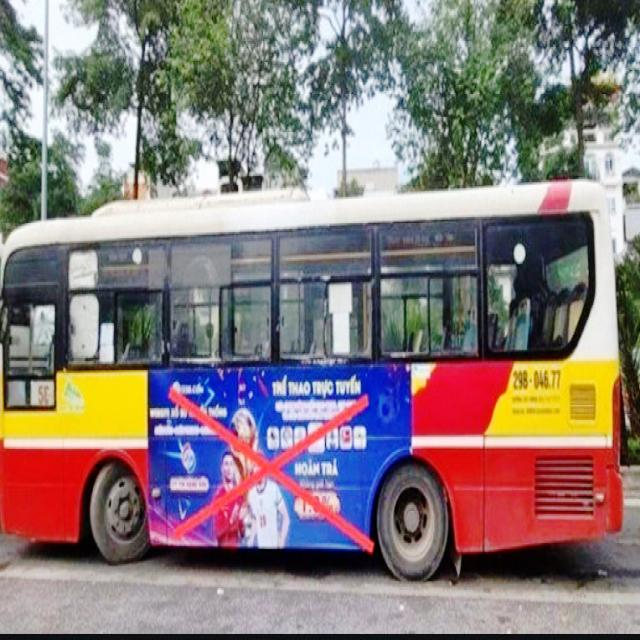Car: (0, 176, 626, 582)
